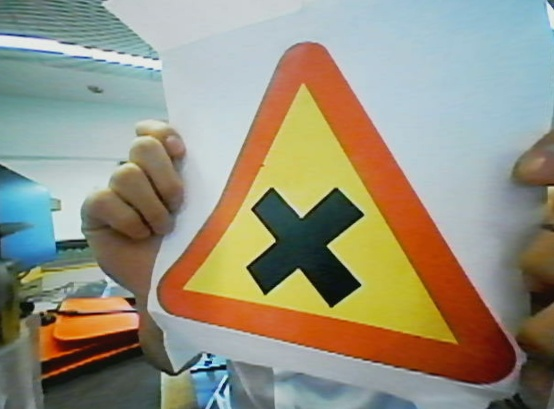junction: (144, 40, 534, 380)
